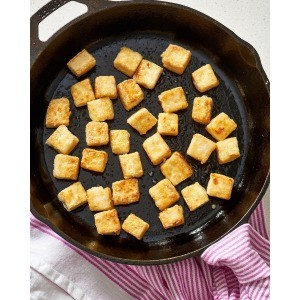tofu_brain food: (45, 33, 245, 237)
